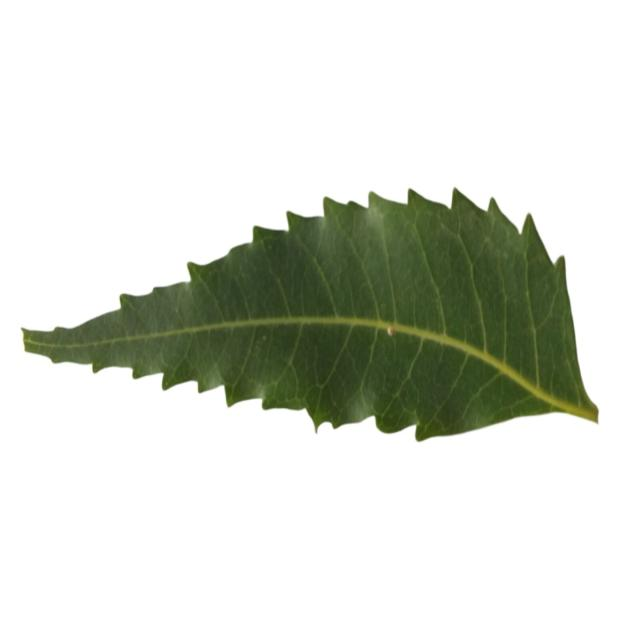Medicinal-Neem: (23, 183, 597, 442)
